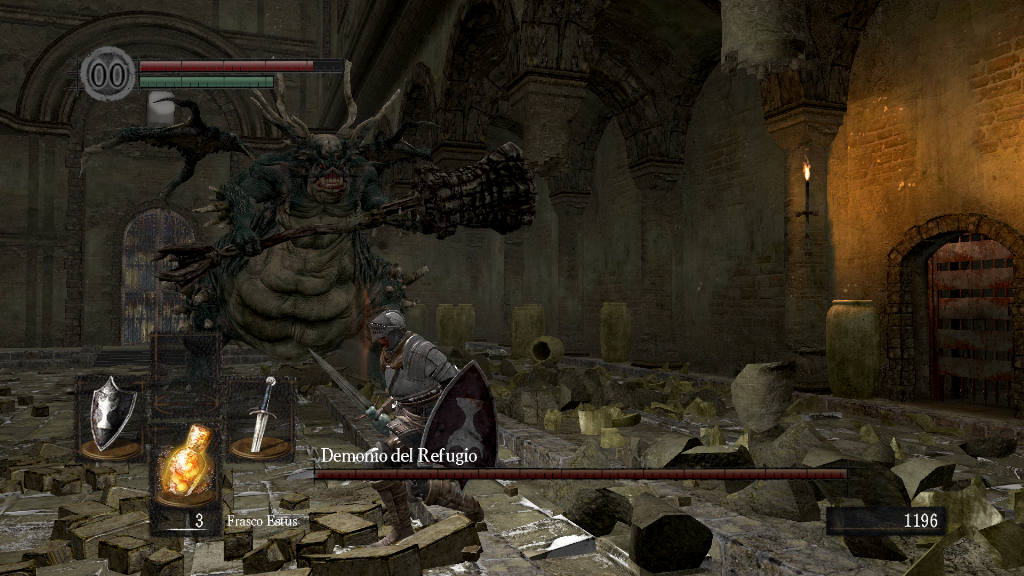asylumDemon: (71, 65, 540, 379)
bossHP: (314, 469, 847, 479)
health: (138, 58, 343, 71)
humanity: (80, 45, 136, 102)
player: (306, 309, 499, 548)
souls: (825, 506, 945, 536)
stamina: (138, 74, 274, 88)
